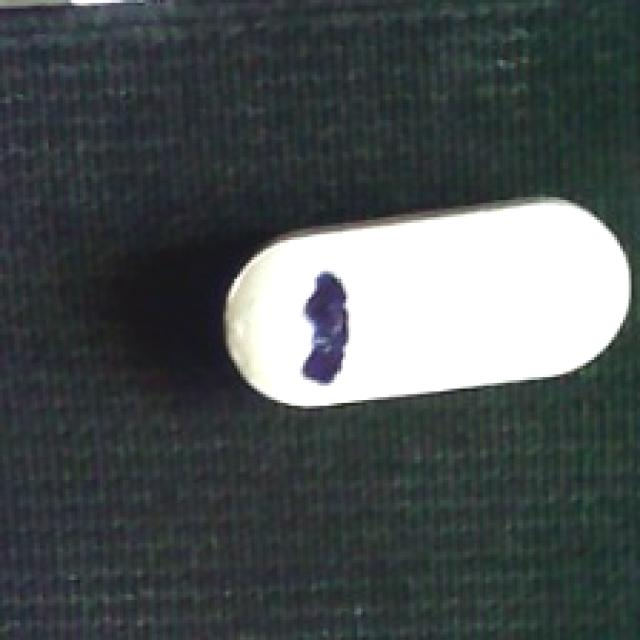defected: (215, 197, 634, 409)
